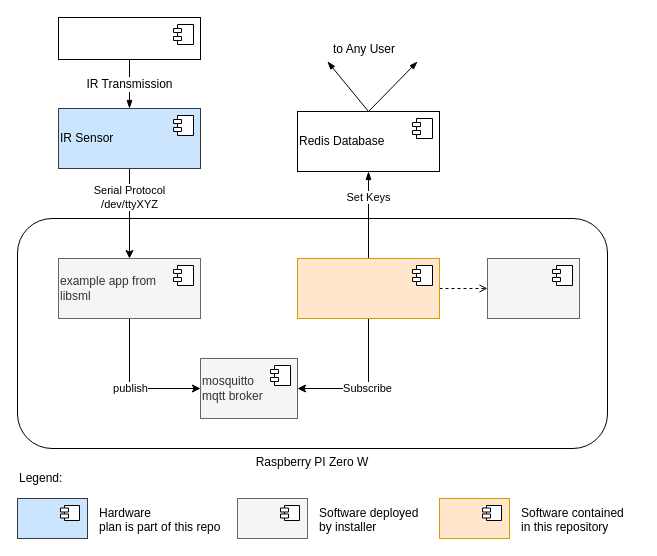
Image size: 657x556. Some labels were removed from this diagram. The centre of each missing label's shape, as x and y in pixels:
"eHZ Smart Meter" goes at (129,38).
"rediscon" goes at (533,288).
"smlogger" goes at (368,288).
